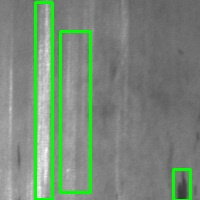inclusion: (173, 169, 190, 200)
scratches: (60, 31, 90, 192), (35, 2, 52, 199)
